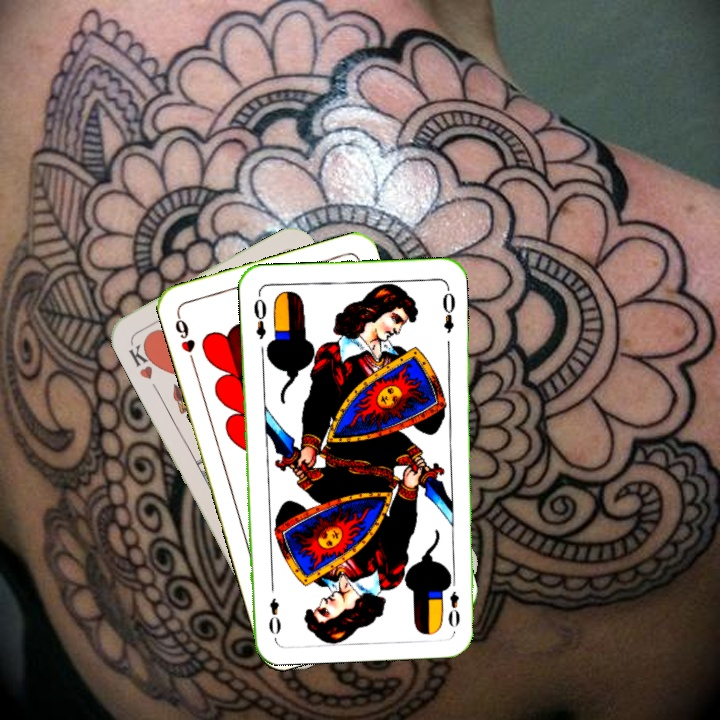EO: (443, 572, 463, 631), (249, 289, 269, 342)
H9: (171, 310, 198, 368)
HK: (124, 336, 161, 382)
